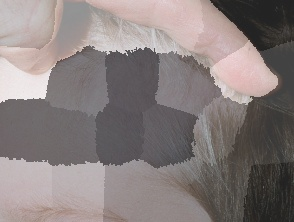vitiligo: (0, 9, 261, 222)
